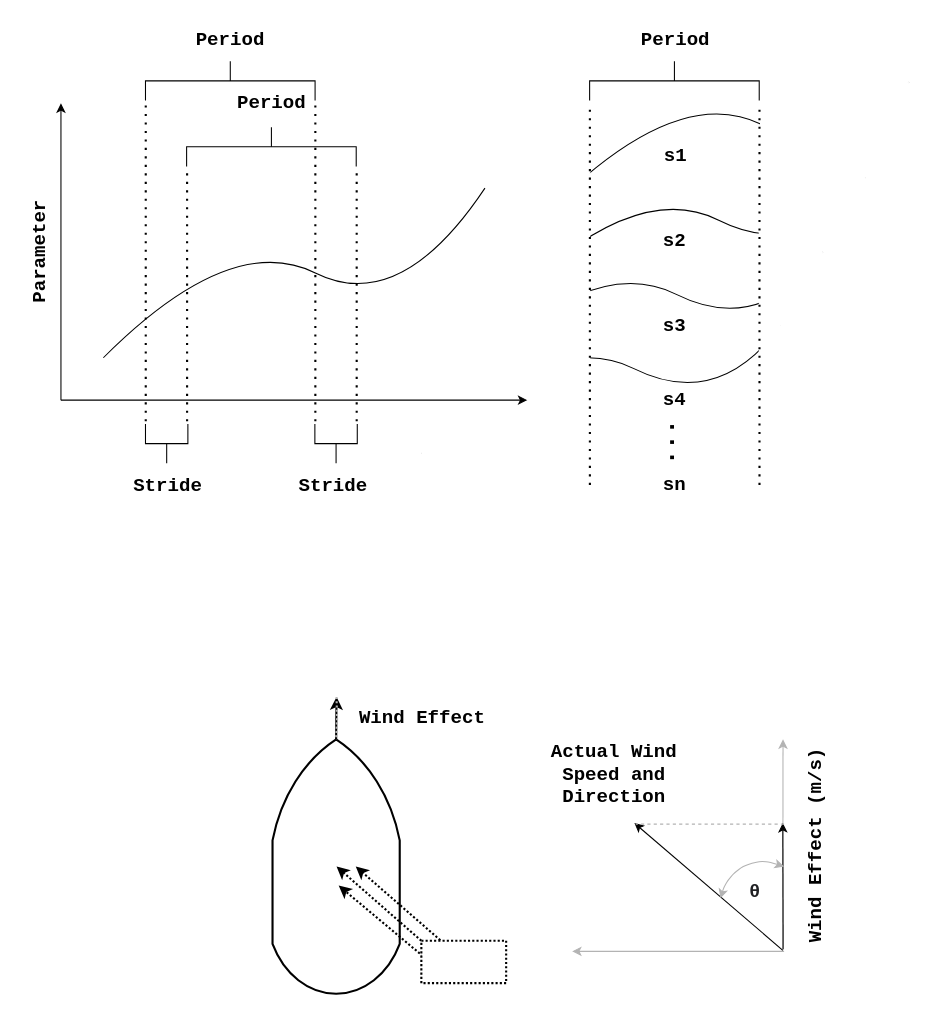
Image size: 927x1012. Some labels were removed from this diagram. The centre of each missing label's shape, as x and y in pixels:
Time: point 505,389
Wind: point 463,961
